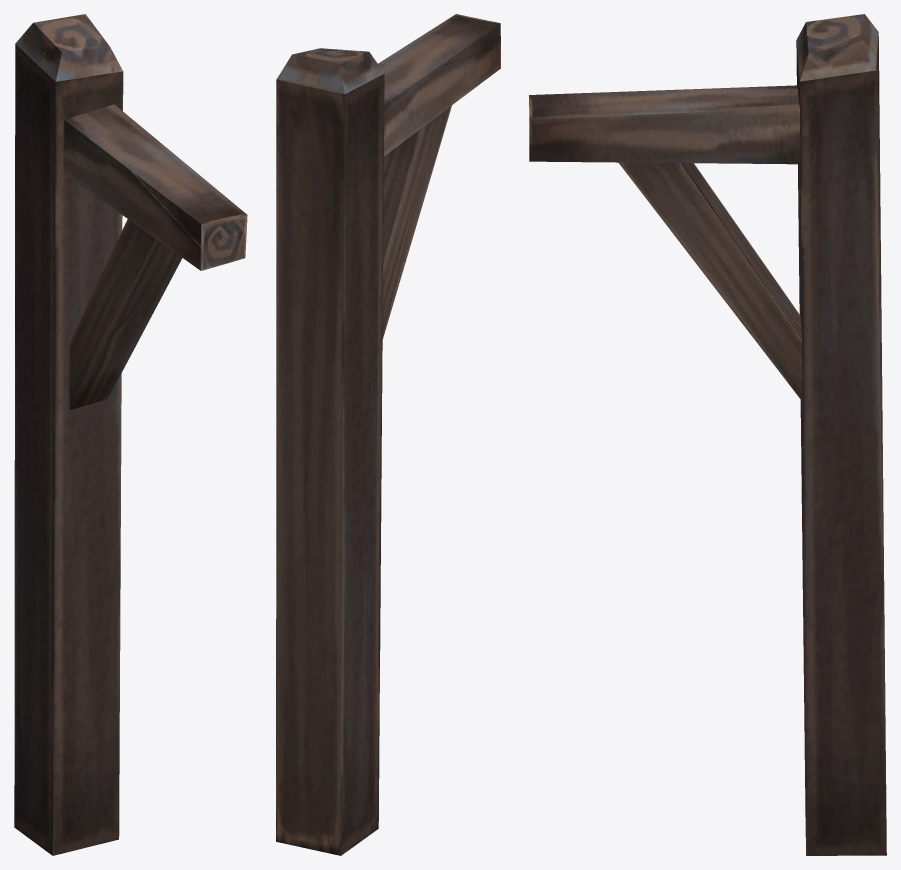
Rendered from wood_arm.fbx.
3 views of the same model, side by side, from view 1: azimuth 30°, elevation 25°; view 2: azimuth 150°, elevation 25°; view 3: azimuth 270°, elevation 25° (orthographic). The views are drawn at different scales.
Visible parts, largest first — view 1: Material_#26; view 2: Material_#26; view 3: Material_#26.
Part boxes in pixels (x1=…): Material_#26: x1=14, y1=14, x2=247, y2=855; Material_#26: x1=276, y1=14, x2=500, y2=855; Material_#26: x1=529, y1=14, x2=886, y2=855.
Bounding box in the file's own units: 0.3881 × 4.15 × 1.65.
